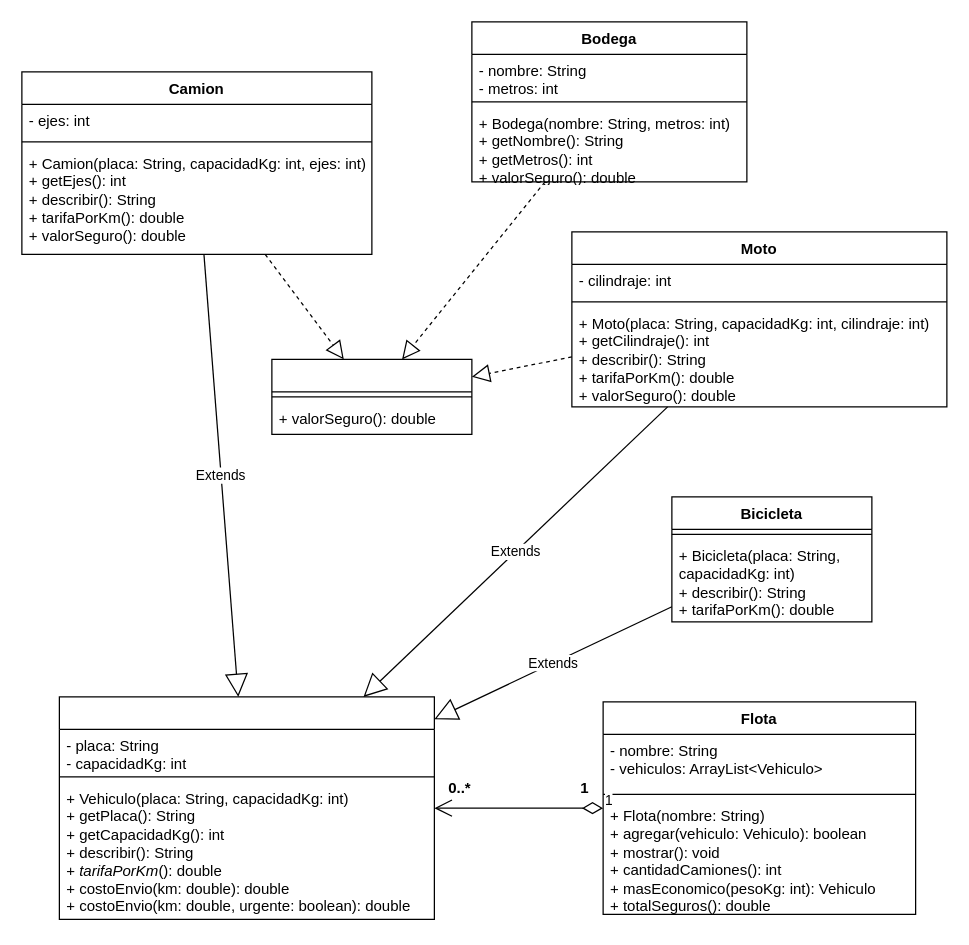
Image size: 969x945. Some labels were removed from this diagram. The shapes that lost their labels are listed below. From the top down, each one's box as (x1, y1, x2, y2) in pixels, then its label:
(271, 358, 472, 434): «interface» Asegurable
(58, 696, 434, 919): «abstract» Vehiculo
